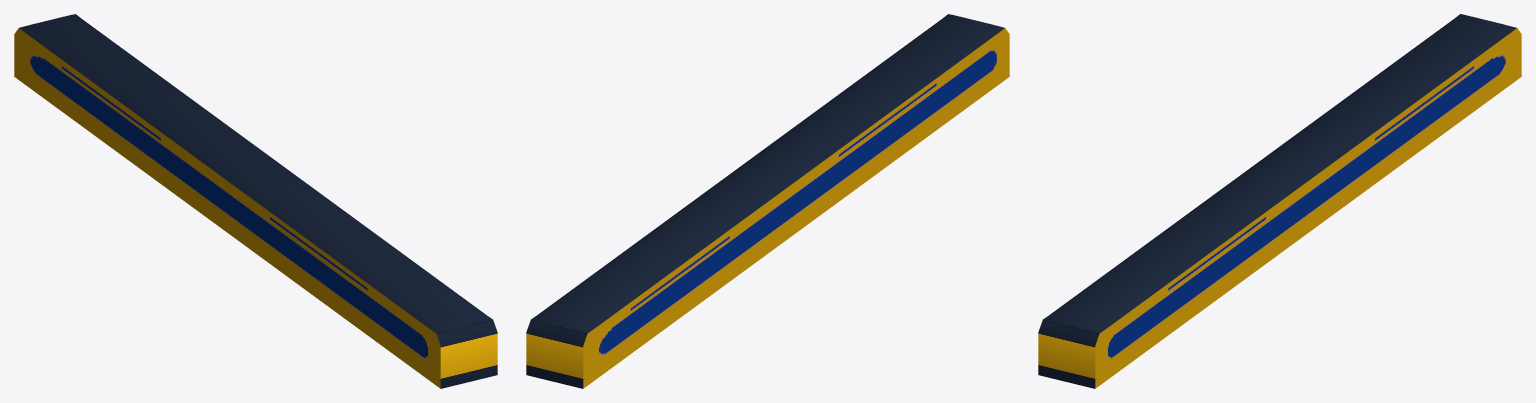
Rendered from train.FBX.
The picture shows the model from 3 angles, left to right: view 1: azimuth 30°, elevation 25°; view 2: azimuth 150°, elevation 25°; view 3: azimuth 330°, elevation 25°; orthographic projection.
Parts seen in each view (by area): view 1: Box021; view 2: Box021; view 3: Box021.
Boxes of the visible parts, box(x1,y1,x2,y2) form: Box021: box(14, 14, 497, 388); Box021: box(526, 14, 1009, 388); Box021: box(1038, 14, 1521, 388).
Size of the model in its own units: 7.57 by 7.4 by 98.45.
